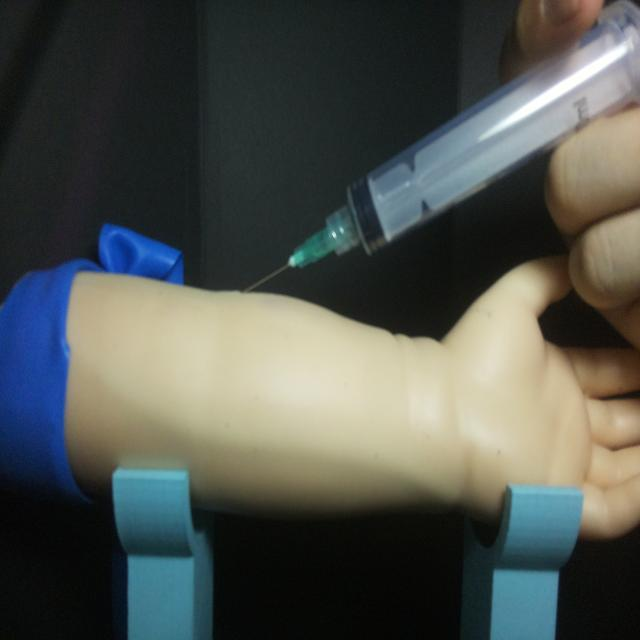17deg: (235, 4, 638, 296)
